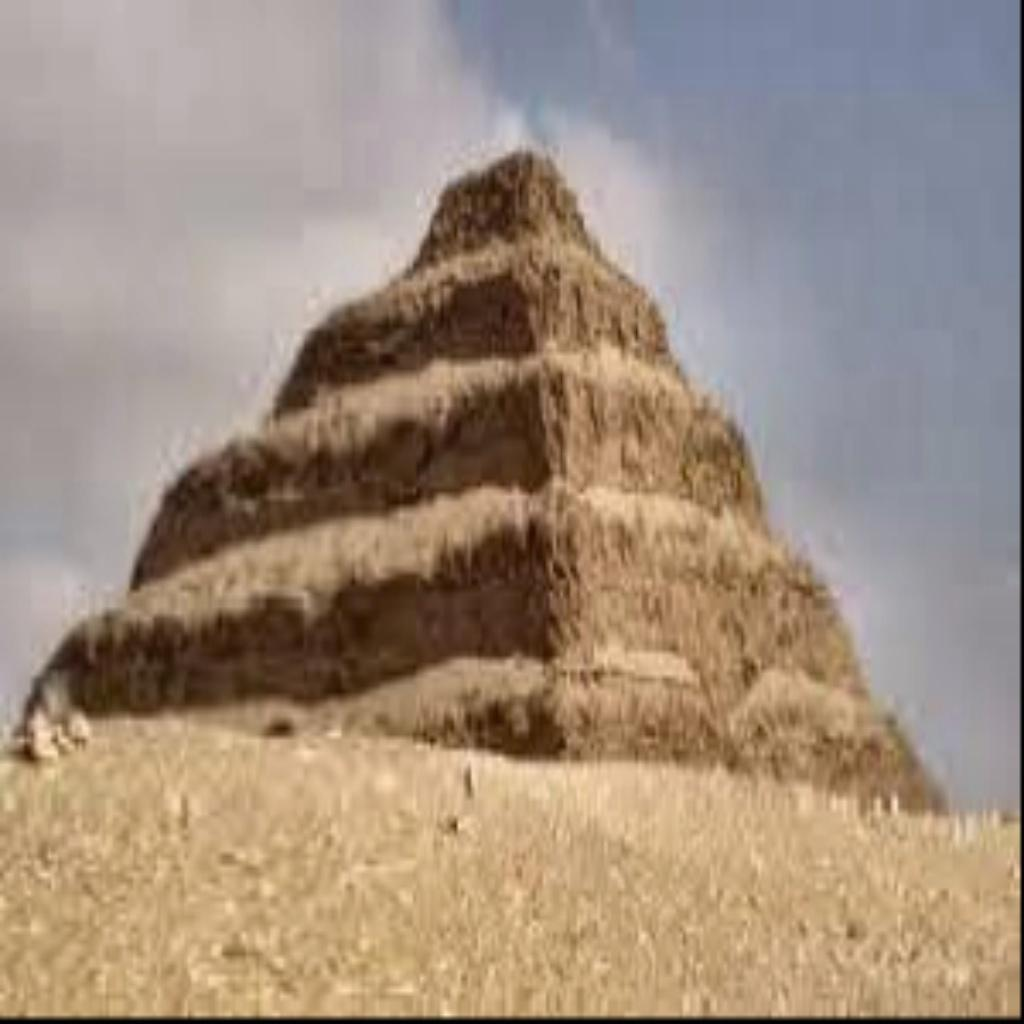Pyramid of Djoser: (10, 134, 942, 811)
